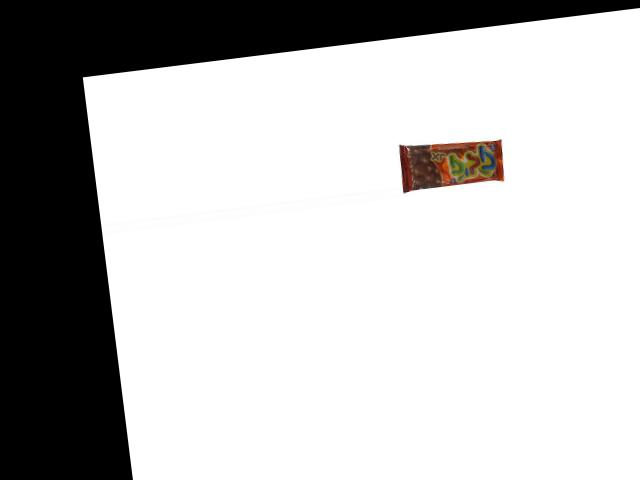chocolate: (397, 134, 506, 193)
